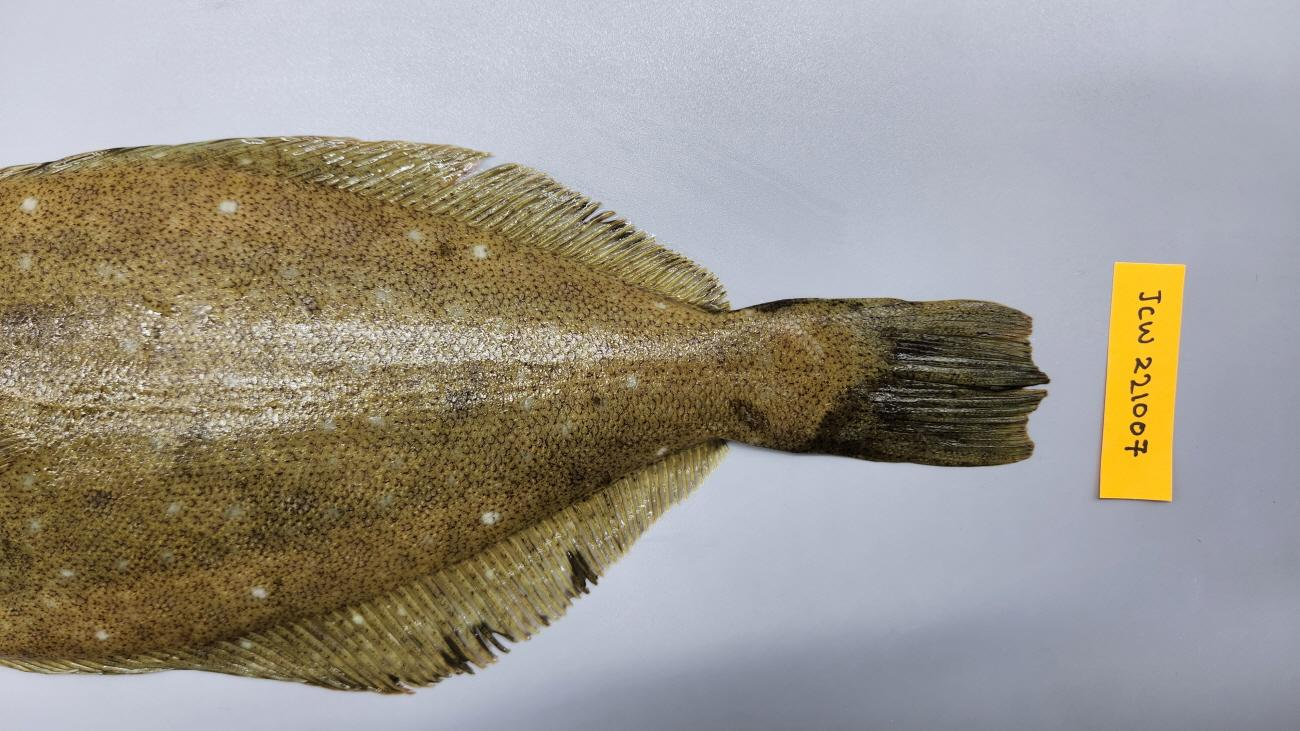POOUN: (0, 135, 1052, 694)
